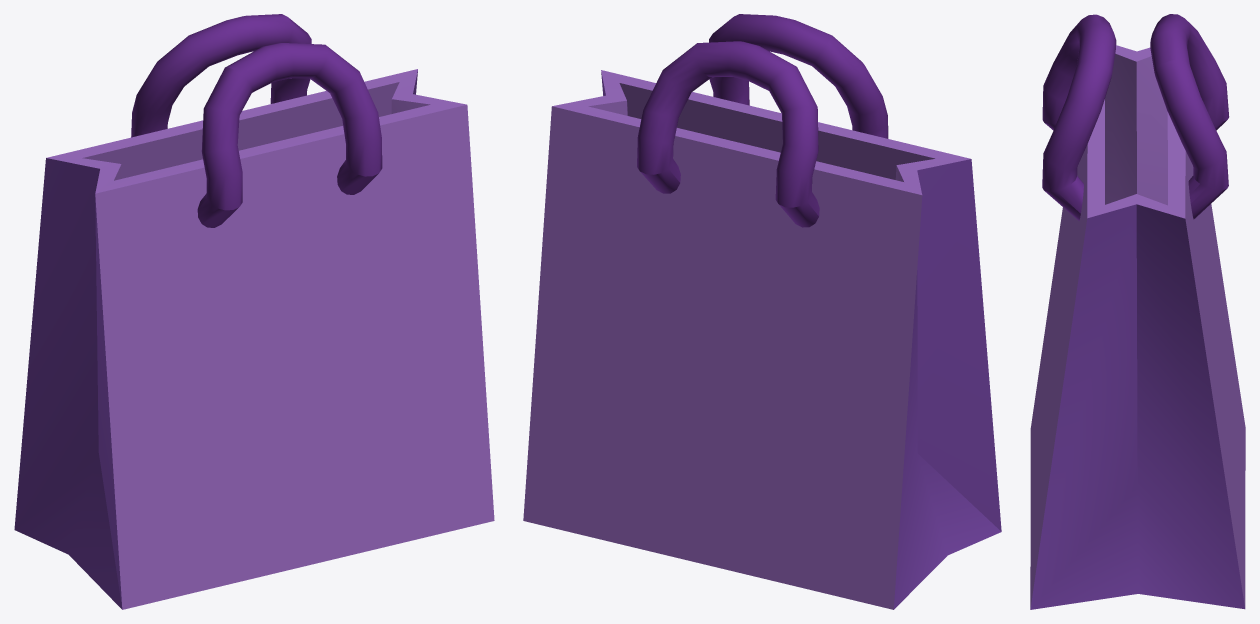
The model's file is Craft.gltf.
The picture shows the model from 3 angles, left to right: view 1: azimuth 30°, elevation 25°; view 2: azimuth 150°, elevation 25°; view 3: azimuth 270°, elevation 25°; orthographic projection.
Parts seen in each view (by area): view 1: CraftBag; view 2: CraftBag; view 3: CraftBag.
Boxes of the visible parts, x1=… form: CraftBag: x1=14, y1=14, x2=494, y2=609; CraftBag: x1=523, y1=14, x2=1001, y2=609; CraftBag: x1=1030, y1=14, x2=1245, y2=609.
Bounding box in the file's own units: 0.9285 × 1.18 × 0.4661.
1 material, 1 textured.
